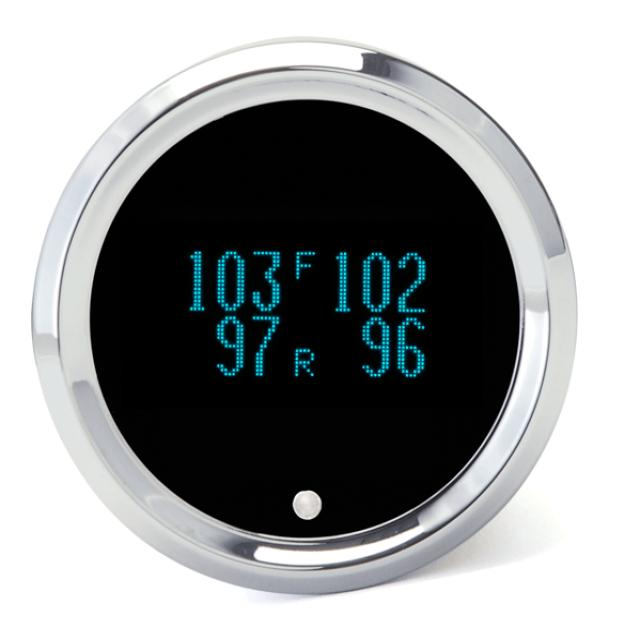display: (87, 97, 525, 540)
frame: (182, 240, 286, 315), (330, 244, 432, 318), (212, 315, 286, 384), (360, 318, 434, 384)
gauge: (29, 36, 578, 598)
